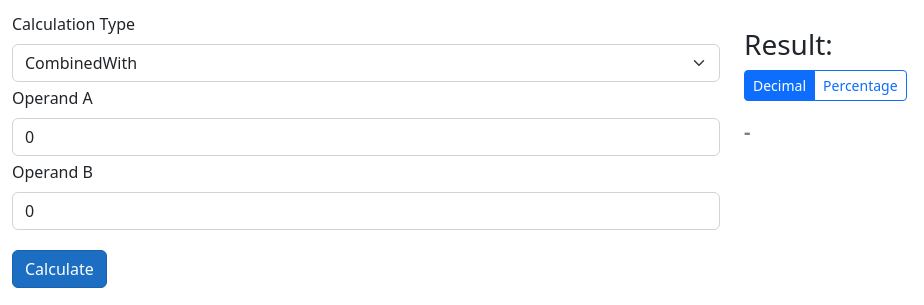
Scenario: Calculation › returns result from calculate function
Click the button "Calculate": (59, 269) [12, 250, 107, 288]
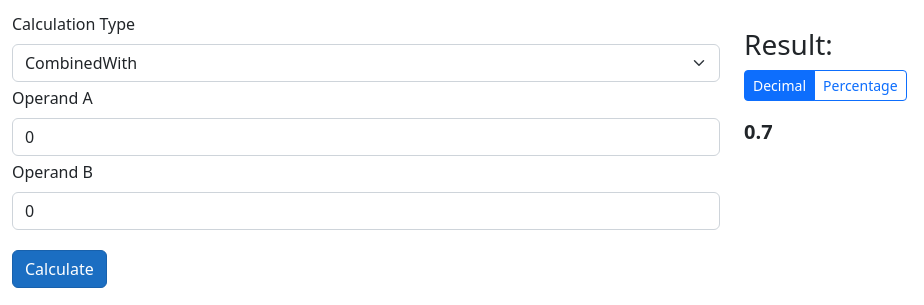
Now the text "0.7" is shown, box [744, 118, 773, 145]
